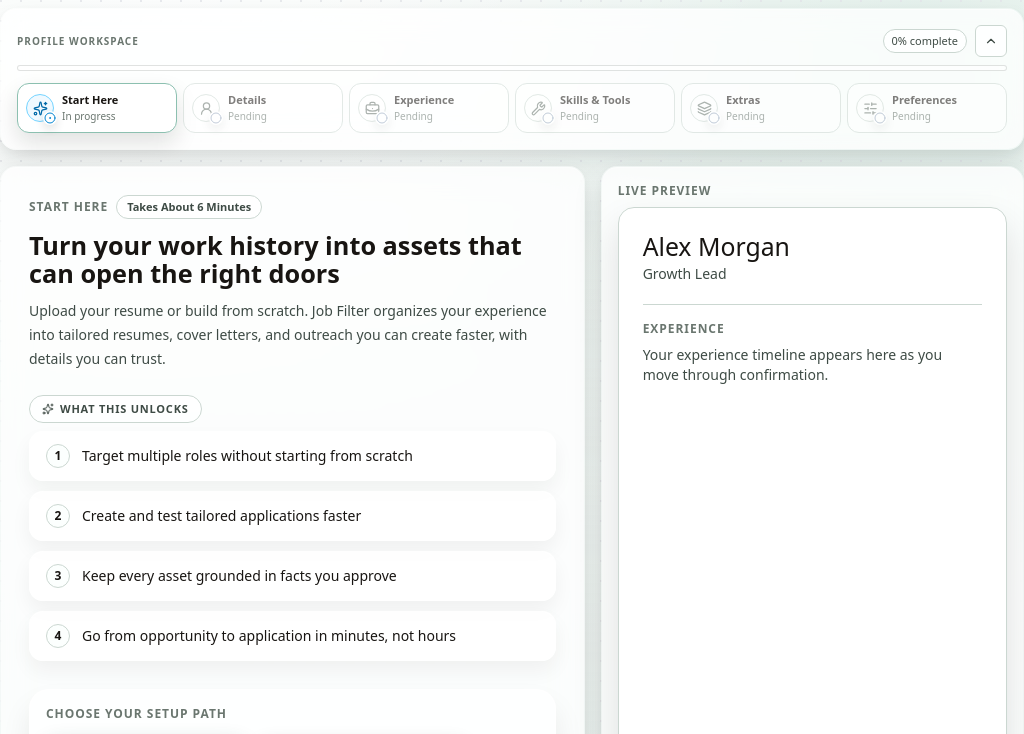
Scenario: ProfileWorkspaceShell › renders one progress readout, visible step labels, and a collapsible top path
Expected: the text "0% complete" is shown once, [882,29,967,53]
Expected: the text "Skills & Tools" is shown, [560,92,630,108]
Click the button named "Collapse step path".
click(991, 41)  # box [975,25,1007,57]
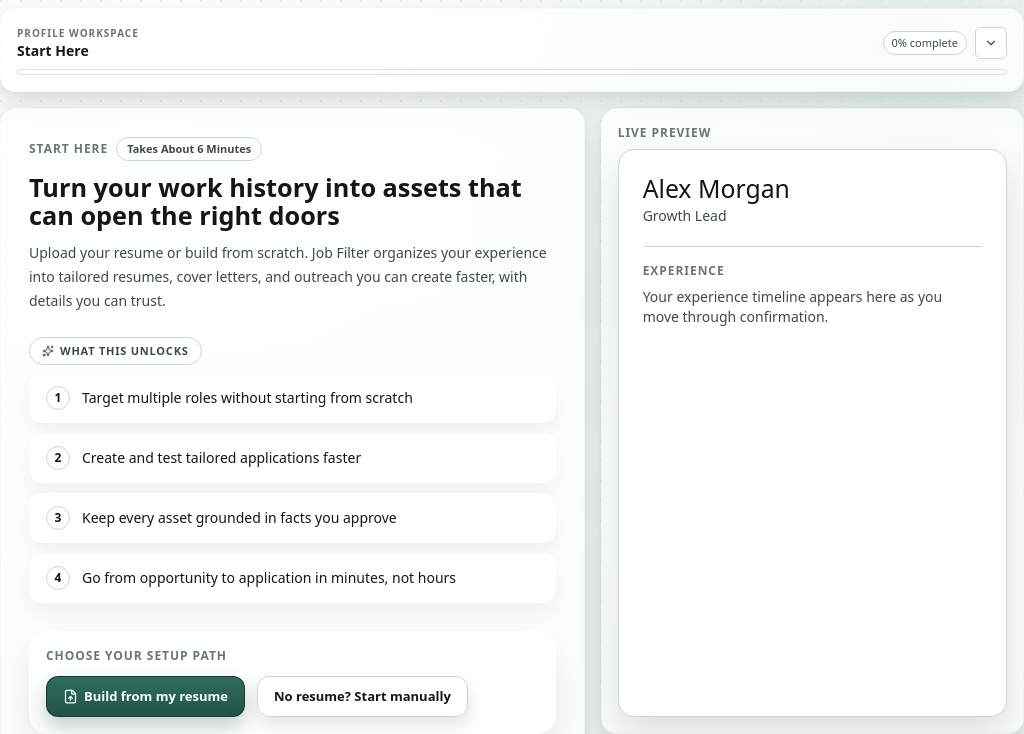
Expected: the button with test id "step-start_here" is gone
Expected: the button named "Expand step path" is shown, [975,27,1007,59]
